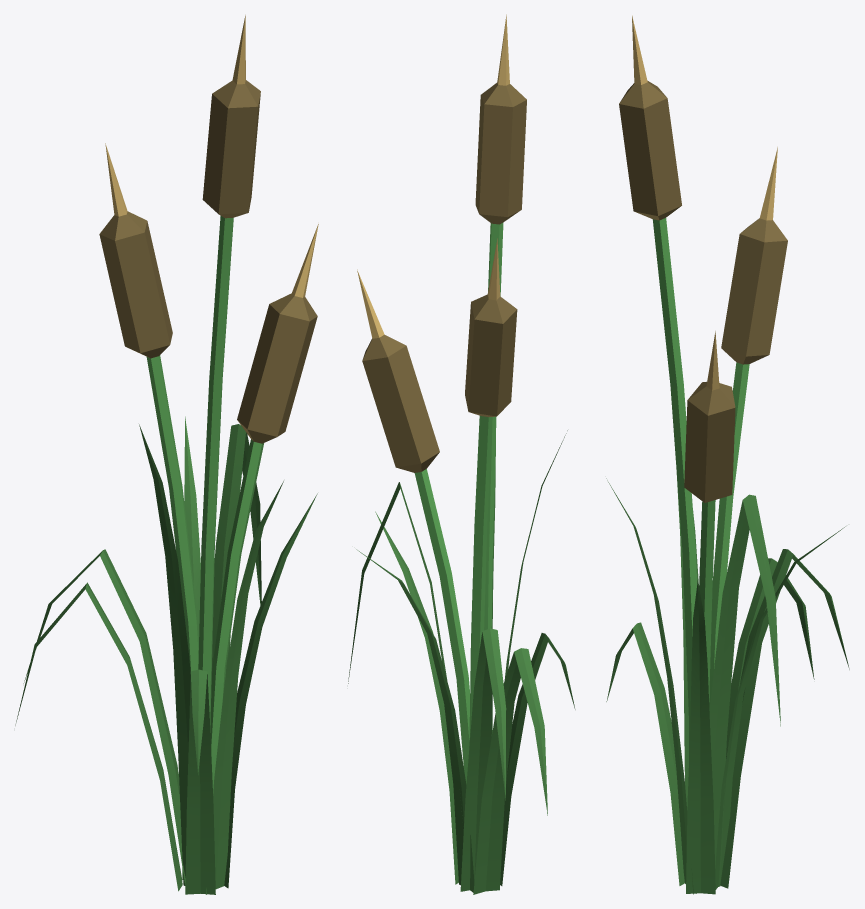
The model's file is Cattail Cluster 3.obj.
3 renders of one model, left to right at view 1: azimuth 30°, elevation 25°; view 2: azimuth 150°, elevation 25°; view 3: azimuth 270°, elevation 25°, orthographic. The views are drawn at different scales.
Bounding box in the file's own units: 34.99 × 118 × 30.16.
